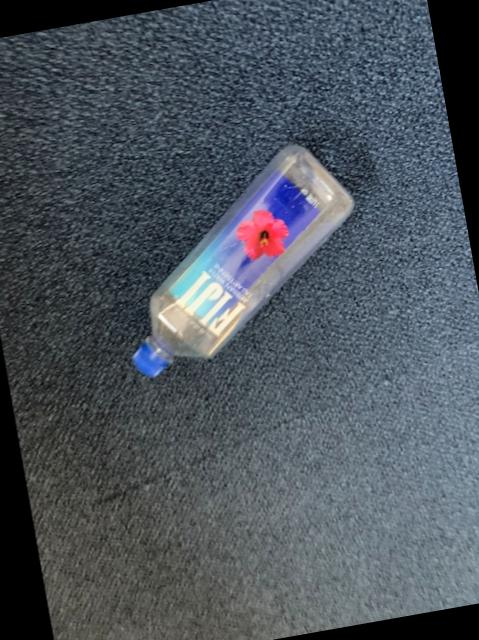plastic: (131, 144, 350, 375)
